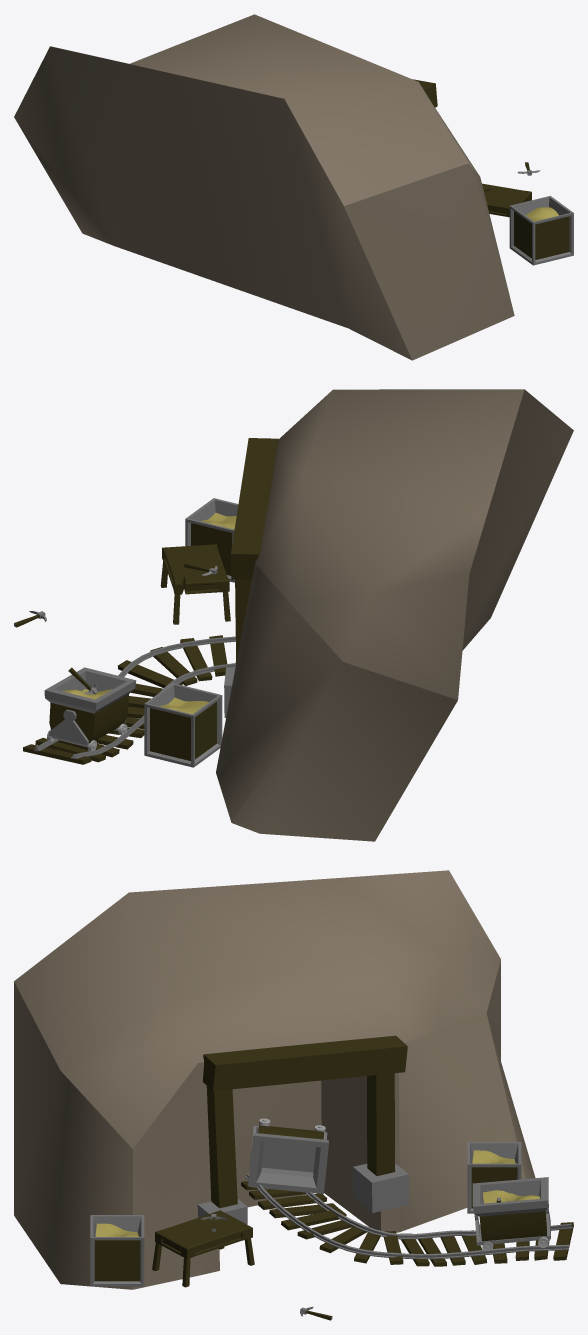
Rendered from Mine_mesh.fbx.
3 renders of one model, top to bottom at view 1: azimuth 30°, elevation 25°; view 2: azimuth 150°, elevation 25°; view 3: azimuth 270°, elevation 25°, orthographic. The views are drawn at different scales.
Visible parts, largest first — view 1: curve2; view 2: curve2; view 3: curve2.
Boxes of the visible parts, box(x1,y1,x2,y2) form: curve2: box(14, 14, 573, 360); curve2: box(14, 389, 573, 841); curve2: box(14, 870, 573, 1320).
Size of the model in its own units: 8412 by 4559 by 8092.
